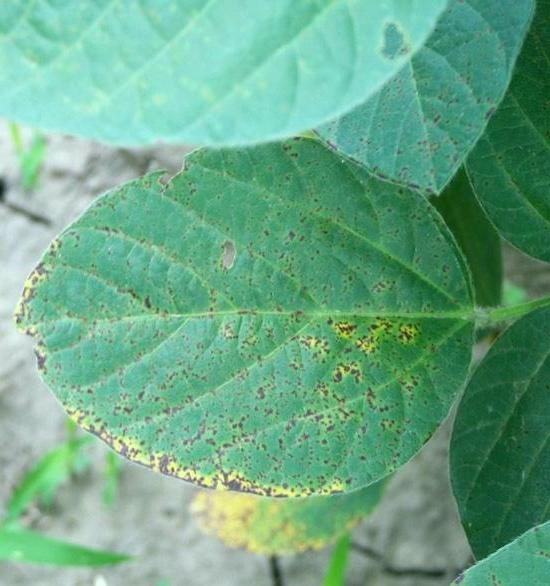Tomato Septoria leaf spot: (3, 149, 484, 501)
